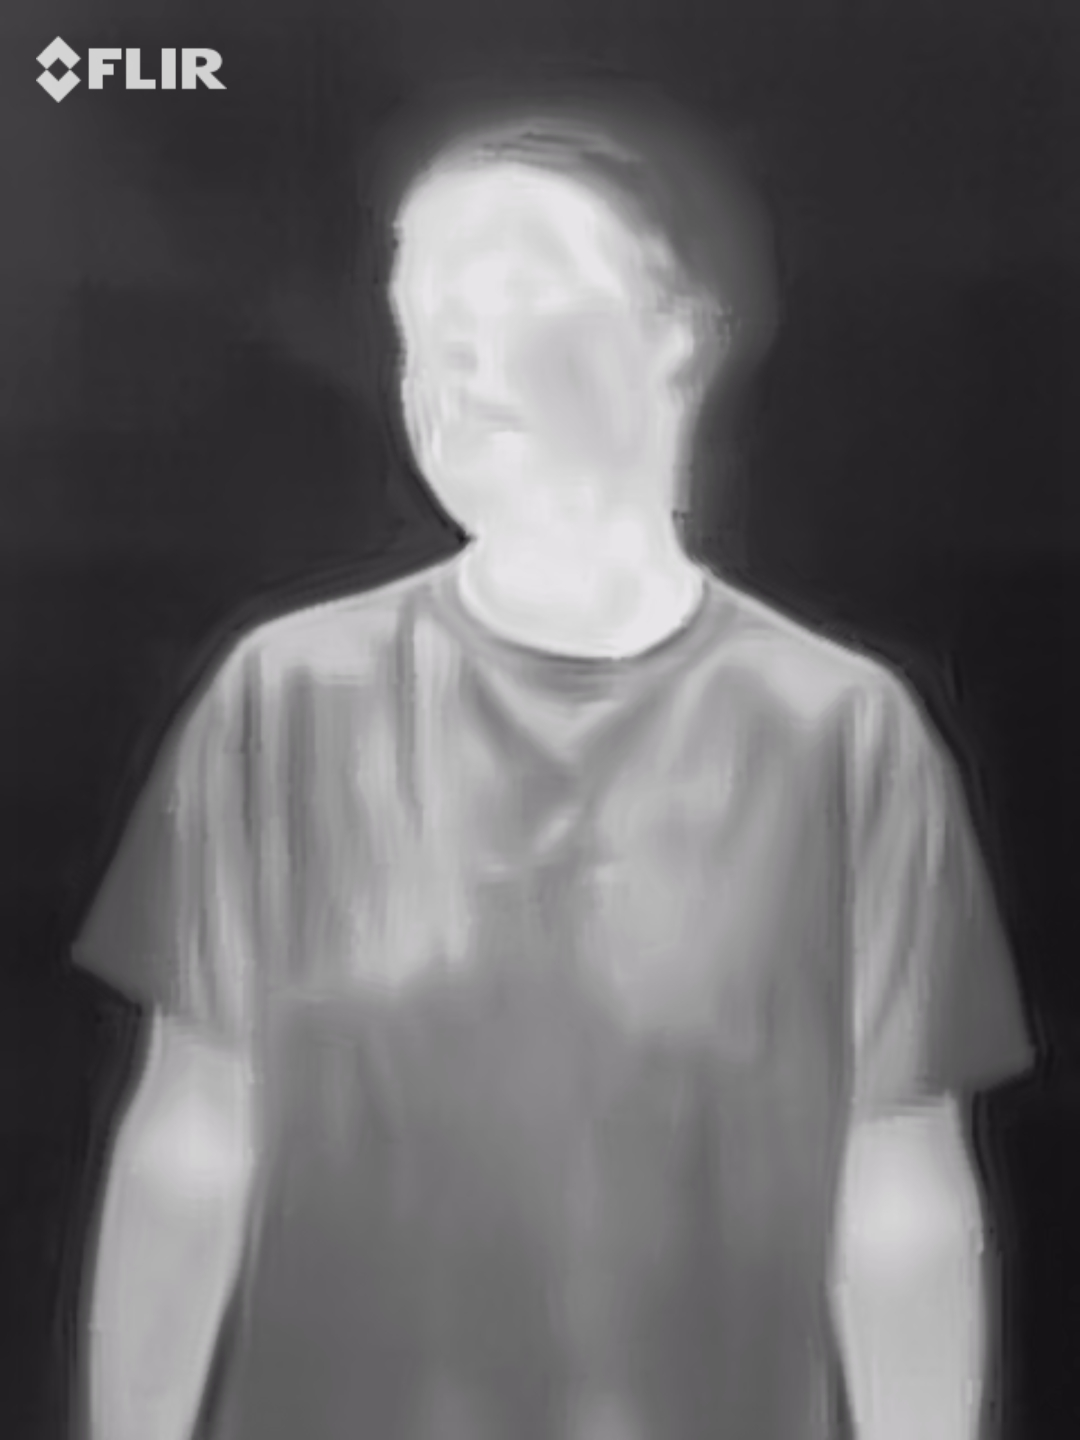head: (380, 107, 739, 563)
